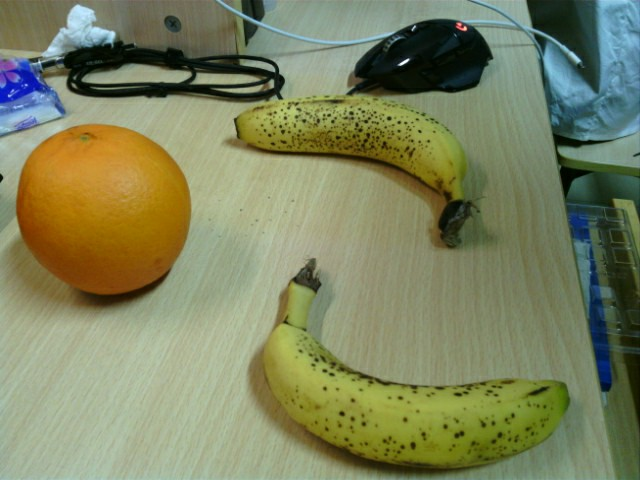normal_banana: (261, 259, 573, 467), (232, 94, 481, 247)
normal_orange: (15, 124, 191, 295)
